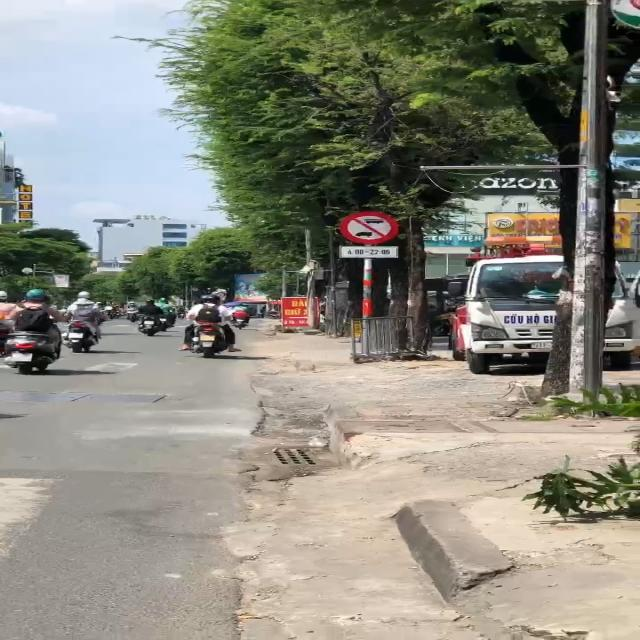Bien bao cam xe oto khach va xe oto tai: (338, 208, 403, 246)
